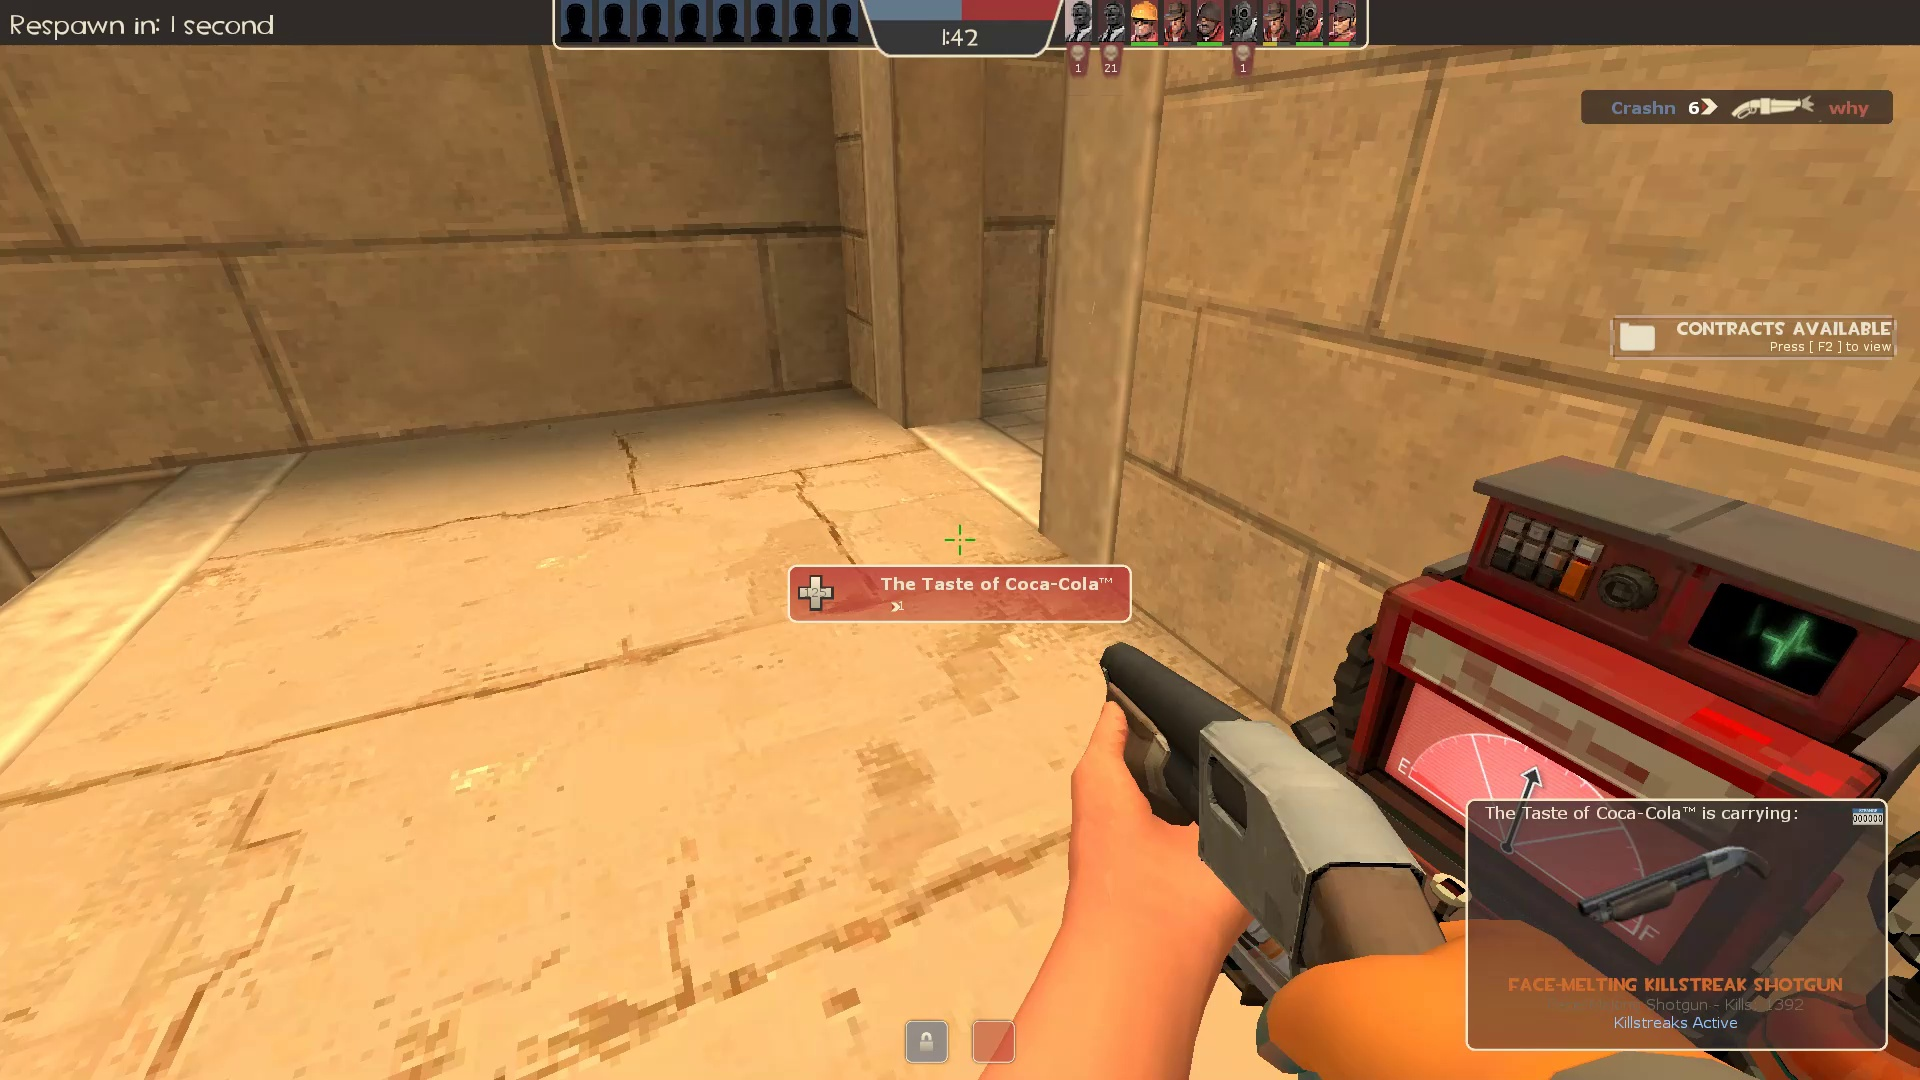red_dispenser: (1196, 443, 1915, 1080)
